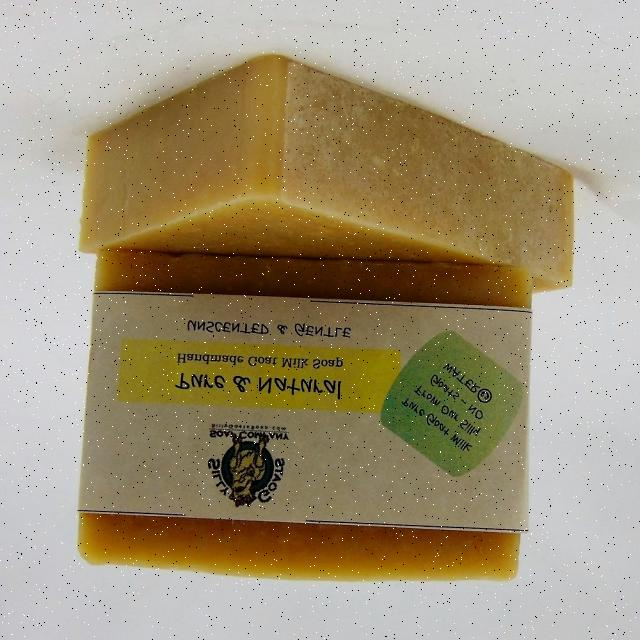soap: (62, 245, 540, 592), (52, 43, 586, 303)
